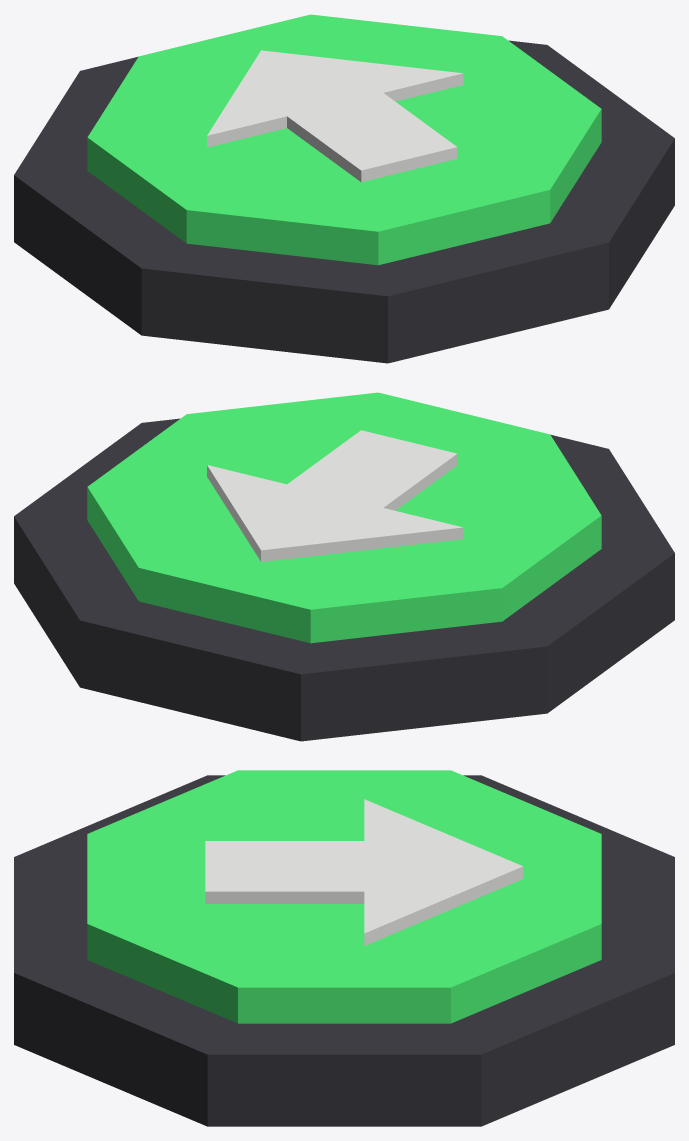
The model's file is JumpPad.fbx.
3 renders of one model, top to bottom at view 1: azimuth 30°, elevation 25°; view 2: azimuth 150°, elevation 25°; view 3: azimuth 270°, elevation 25°, orthographic. The views are drawn at different scales.
Visible parts, largest first — view 1: JumpPad; view 2: JumpPad; view 3: JumpPad.
Boxes of the visible parts, x1,y1,x2,y2 form: JumpPad: (14, 14, 674, 363); JumpPad: (14, 392, 674, 741); JumpPad: (14, 770, 674, 1126).
Bounding box in the file's own units: 3.33 × 0.67 × 3.33.
Materials: 1 (1 with a texture image).
